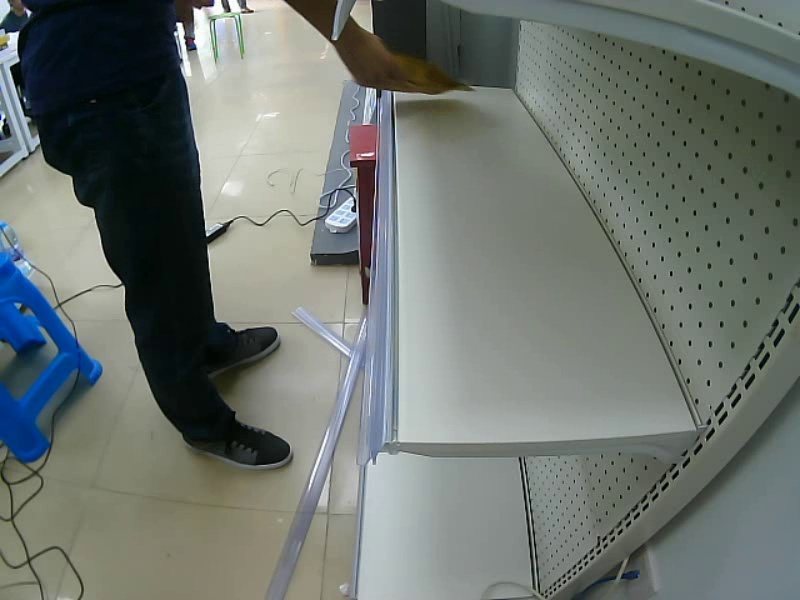bld069: (358, 47, 468, 103)
